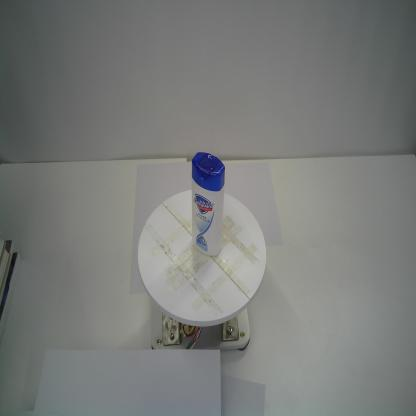Personal Hygiene: (191, 152, 225, 257)
